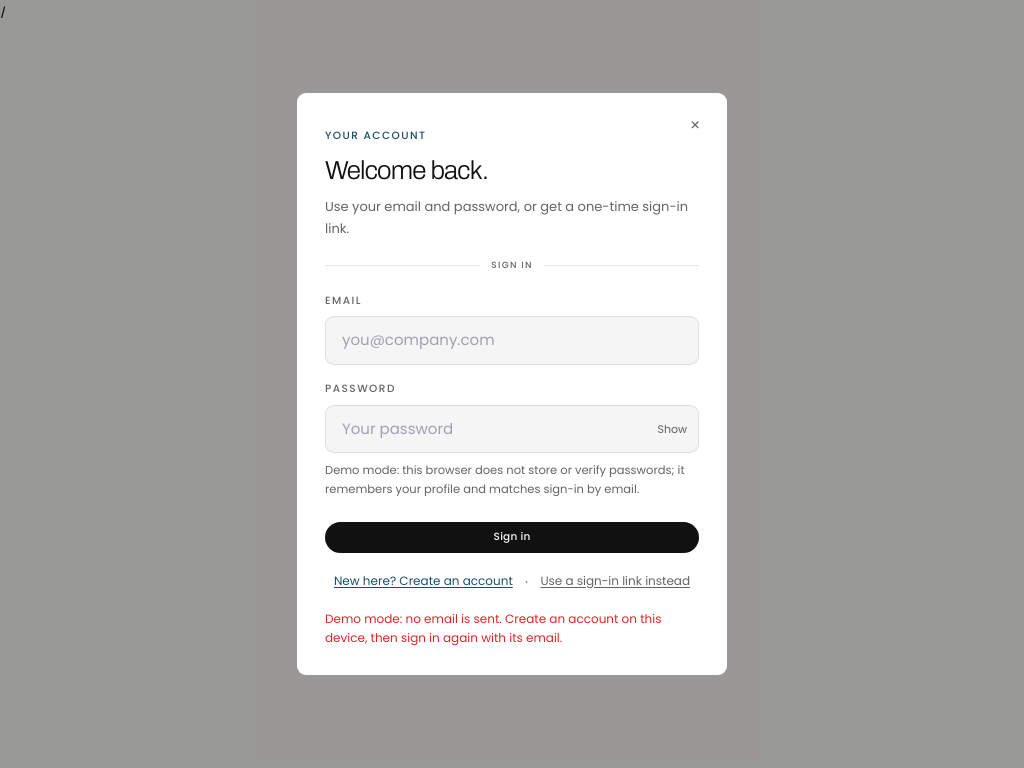
AuthDialog › lets a visitor switch from sign-in to the complete signup form
Click the button "New here? Create an account" at (423, 581), box top-left (334, 572), bottom-right (513, 590)
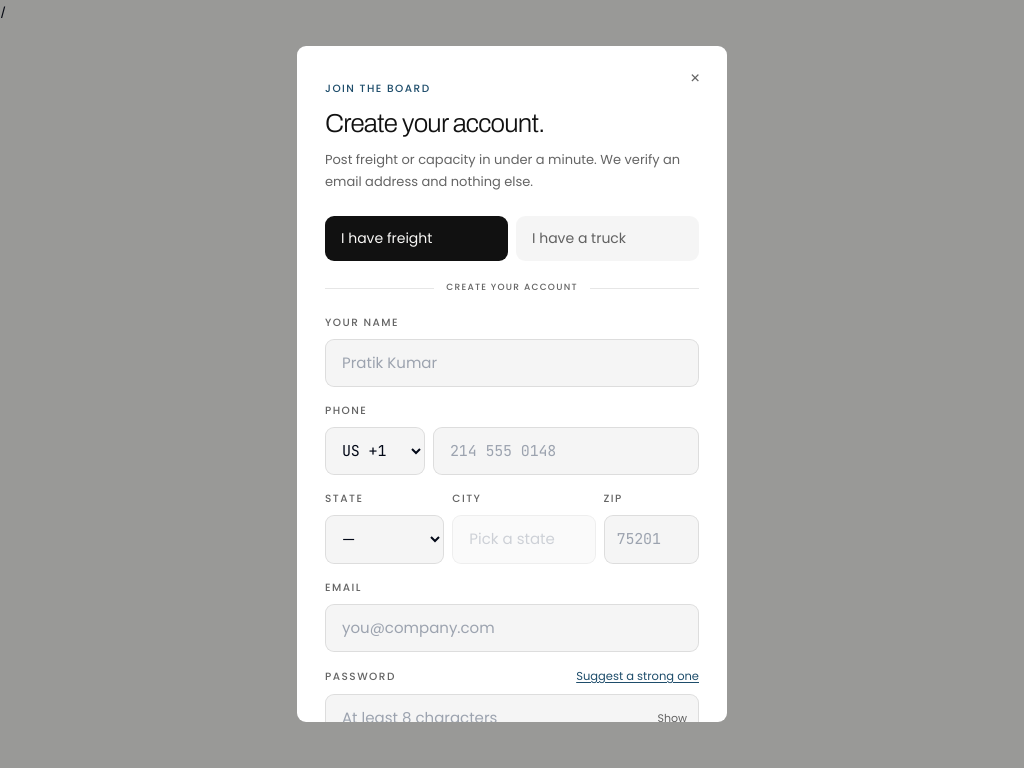
Result: the heading "Create your account." is shown at top-left (325, 109), bottom-right (544, 137)
Result: the field labelled "Your name" is shown at top-left (325, 338), bottom-right (699, 387)
Result: the button "I have a truck" is shown at top-left (516, 216), bottom-right (699, 261)
